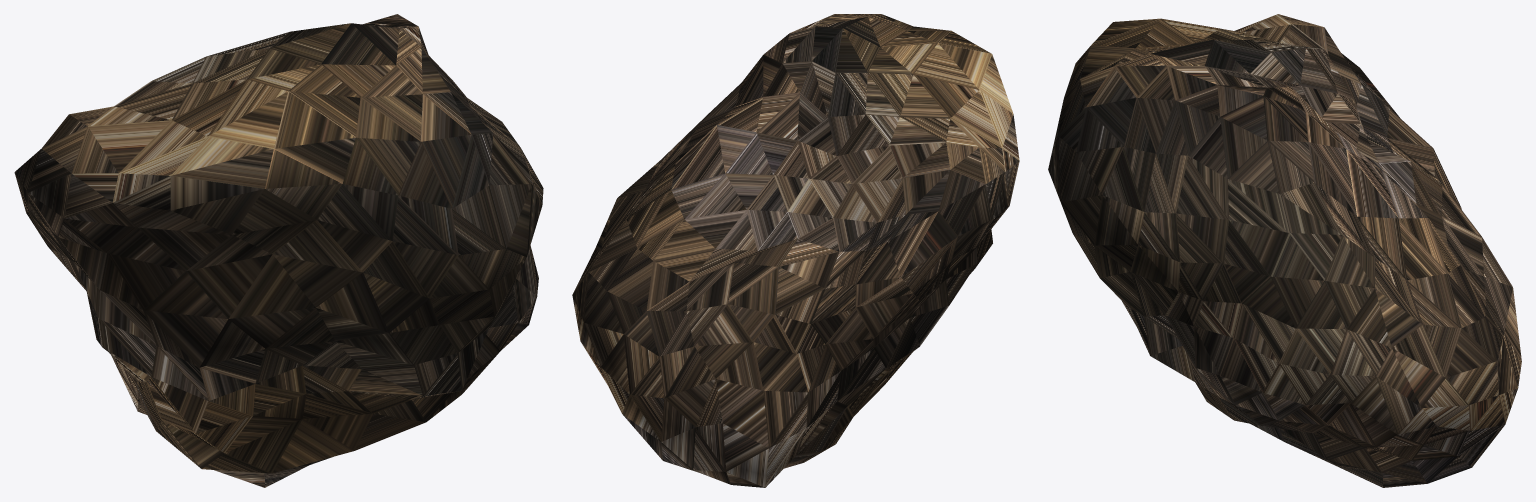
Rendered from asteroid1.obj.
3 views of the same model, side by side, from view 1: azimuth 30°, elevation 25°; view 2: azimuth 150°, elevation 25°; view 3: azimuth 270°, elevation 25° (orthographic). The views are drawn at different scales.
Parts seen in each view (by area): view 1: asteroid; view 2: asteroid; view 3: asteroid.
Boxes of the visible parts, x1=… form: asteroid: x1=14, y1=14, x2=543, y2=487; asteroid: x1=572, y1=14, x2=1019, y2=487; asteroid: x1=1048, y1=14, x2=1521, y2=487.
Bounding box in the file's own units: 50.59 × 51.1 × 51.03.
Materials: 1 (1 with a texture image).
